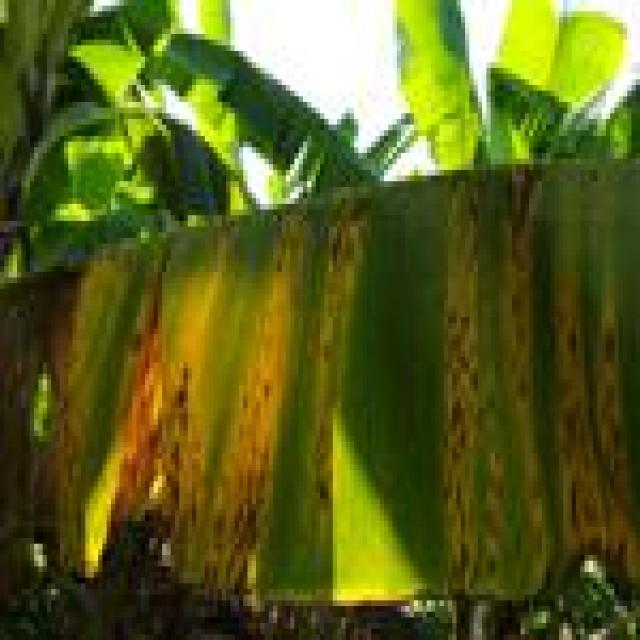Early_rust: (4, 147, 640, 640)
